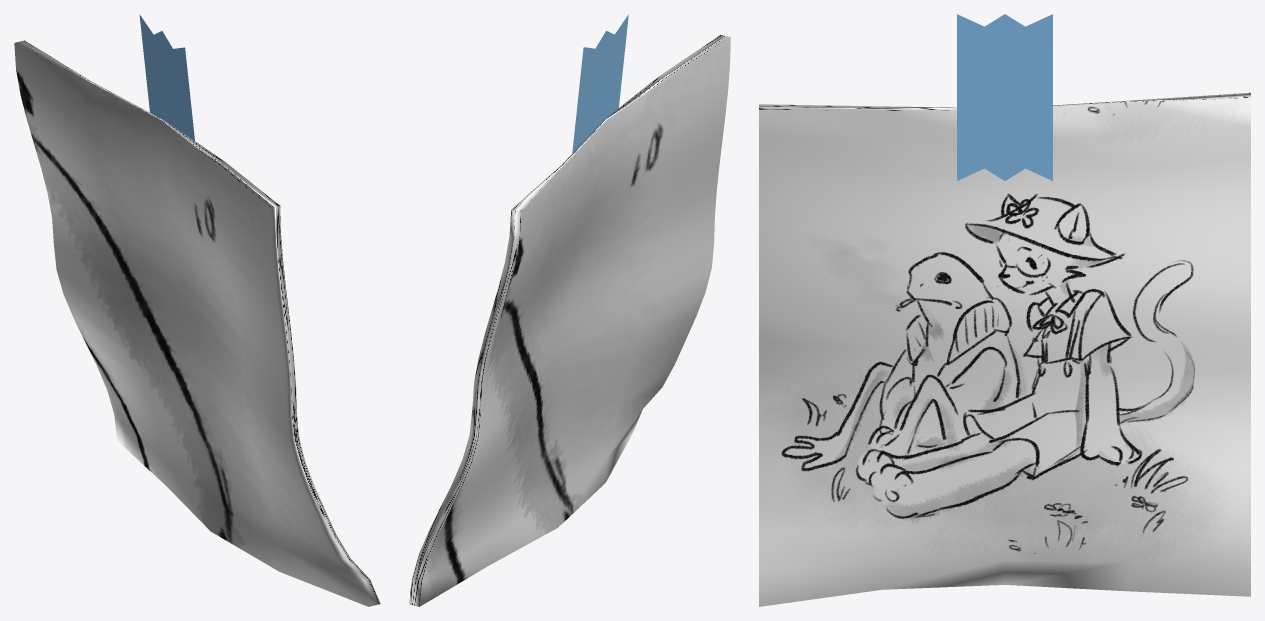
Rendered from postitnote.fbx.
The picture shows the model from 3 angles, left to right: view 1: azimuth 30°, elevation 25°; view 2: azimuth 150°, elevation 25°; view 3: azimuth 270°, elevation 25°; orthographic projection. The views are drawn at different scales.
Visible parts, largest first — view 1: postitnote, tape; view 2: postitnote, tape; view 3: postitnote, tape.
Boxes of the visible parts, bbox=[...] form: postitnote: bbox=[14, 40, 380, 606]; tape: bbox=[139, 14, 194, 140]; postitnote: bbox=[409, 35, 730, 606]; tape: bbox=[572, 14, 628, 153]; postitnote: bbox=[759, 92, 1250, 606]; tape: bbox=[957, 14, 1052, 180].
Bounding box in the file's own units: 0.0358 × 0.1318 × 0.1087.
